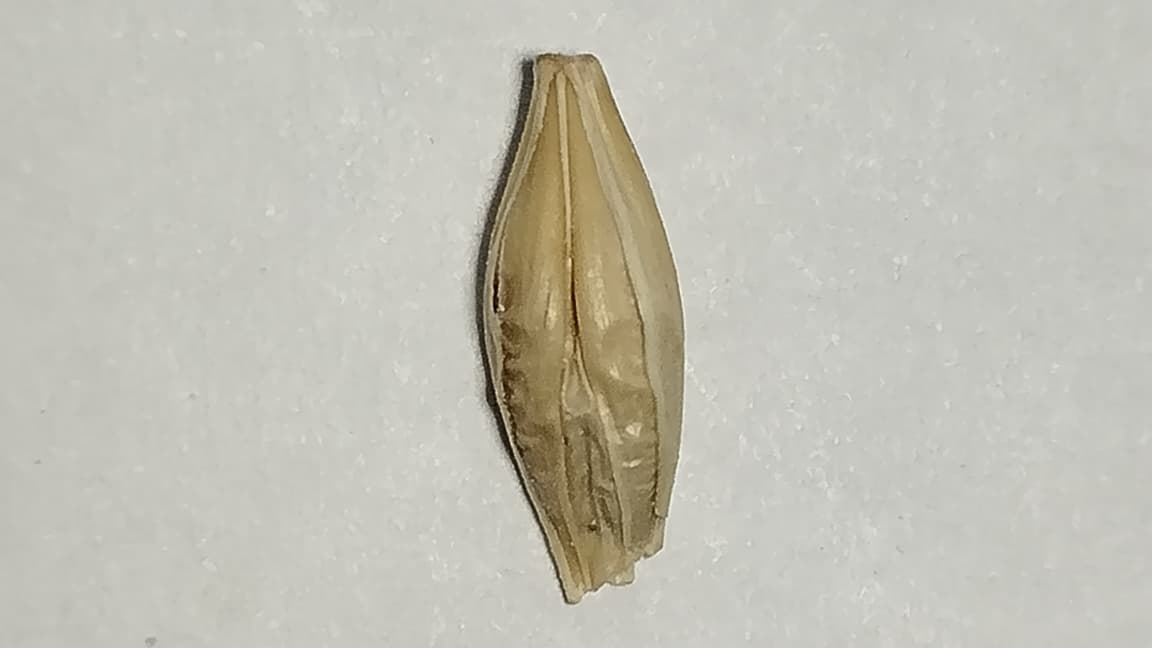healthy-70-60: (480, 54, 683, 601)
